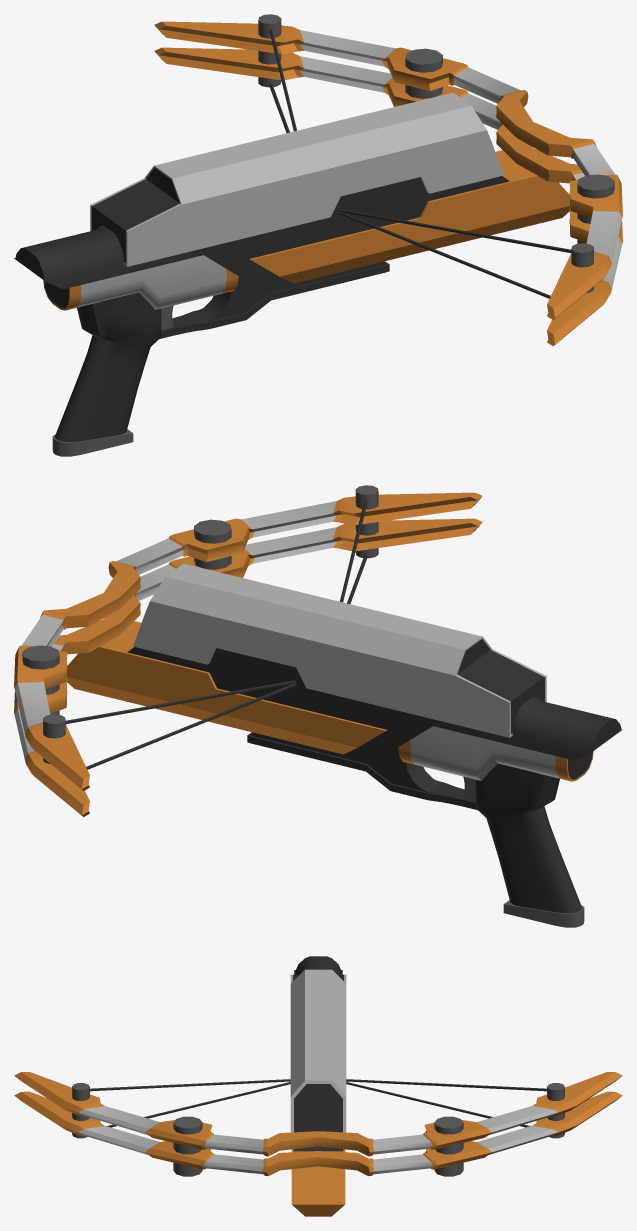
File: Crossbow_2.gltf
3 views of the same model, one above another, from view 1: azimuth 30°, elevation 25°; view 2: azimuth 150°, elevation 25°; view 3: azimuth 270°, elevation 25° (orthographic). The views are drawn at different scales.
Visible parts, largest first — view 1: Crossbow_2; view 2: Crossbow_2; view 3: Crossbow_2.
Part boxes in pixels (<box>): Crossbow_2: <box>14,14,622,456</box>; Crossbow_2: <box>14,485,621,927</box>; Crossbow_2: <box>14,956,622,1216</box>.
Bounding box in the file's own units: 1.47 × 0.6749 × 1.92.
